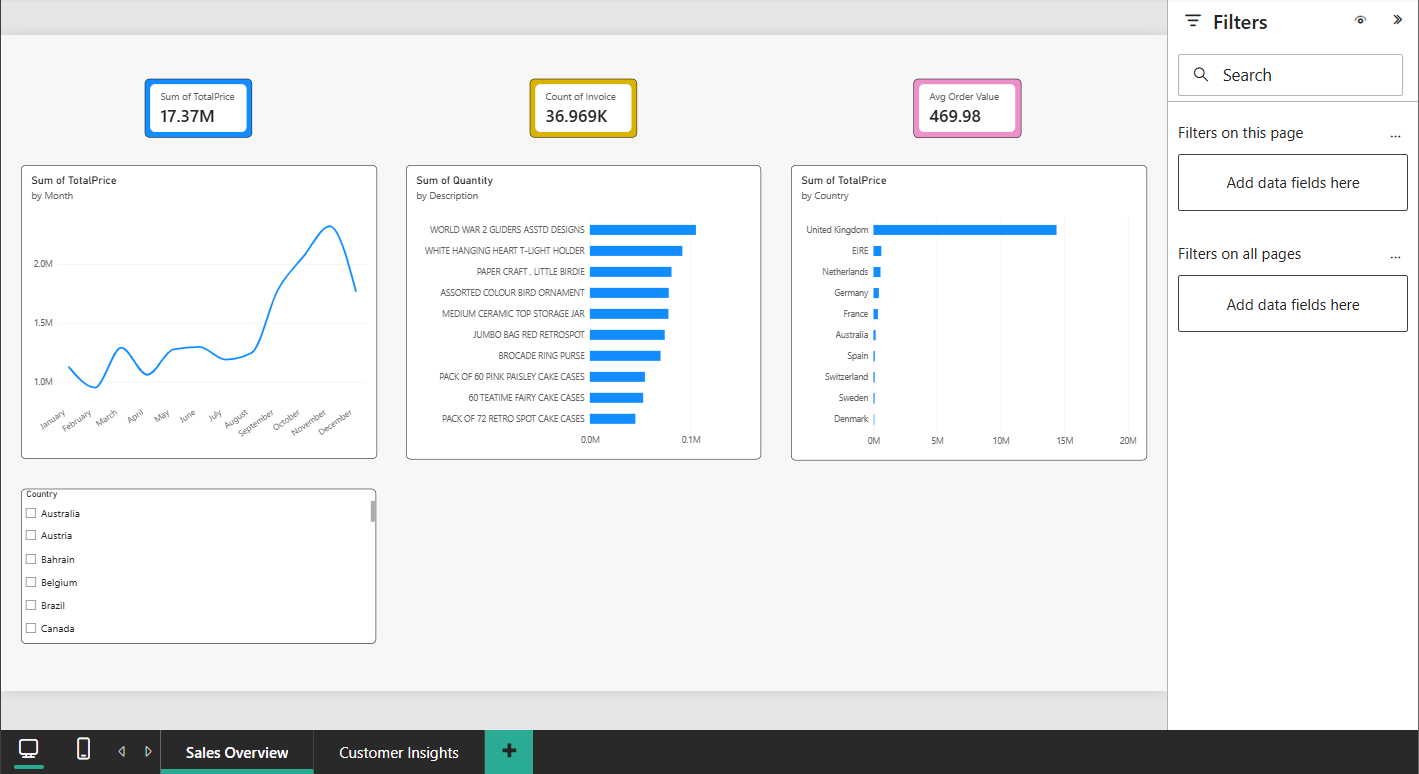

This screenshot's page, from the dashboard's own definition file:
{"tool":"powerbi","page":{"name":"Sales Overview","canvas":[1920,1080],"ordinal":0},"visuals":[{"type":"cardVisual","fields":{"Data":["Sum(cleaned_retail_data.TotalPrice)"]},"box":[237.5,72.5,177.1,97.1],"z":0},{"type":"cardVisual","fields":{"Data":["Count(cleaned_retail_data.Invoice)"]},"box":[870,72.5,177.1,97.1],"z":1000},{"type":"cardVisual","fields":{"Data":["cleaned_retail_data.Avg Order Value"]},"box":[1502.5,72.5,177.5,97.5],"z":2000},{"type":"lineChart","fields":{"Category":["cleaned_retail_data.InvoiceDate.Variation.Date Hierarchy.Year","cleaned_retail_data.InvoiceDate.Variation.Date Hierarchy.Quarter","cleaned_retail_data.InvoiceDate.Variation.Date Hierarchy.Month","cleaned_retail_data.InvoiceDate.Variation.Date Hierarchy.Day"],"Y":["Sum(cleaned_retail_data.TotalPrice)"]},"box":[32.5,215,586,484],"z":3000},{"type":"clusteredBarChart","fields":{"Category":["cleaned_retail_data.Description"],"Y":["Sum(cleaned_retail_data.Quantity)"]},"box":[667.5,215,585,485],"z":4000},{"type":"clusteredBarChart","fields":{"Category":["cleaned_retail_data.Country"],"Y":["Sum(cleaned_retail_data.TotalPrice)"]},"box":[1300,215,586,486],"z":5000},{"type":"slicer","fields":{"Values":["cleaned_retail_data.Country"]},"box":[32.5,747.5,585,255],"z":5001}]}

Visuals, with their boxes on the page's 1920x1080 design canvas (x1, y1, x2, y2). These are canvas units, not pixel positions in the 1419x774 screenshot, which may show the page scaled, cropped or inside an application window:
cardVisual - Sum(cleaned_retail_data.TotalPrice): box(238, 72, 415, 170)
cardVisual - Count(cleaned_retail_data.Invoice): box(870, 72, 1047, 170)
cardVisual - cleaned_retail_data.Avg Order Value: box(1502, 72, 1680, 170)
lineChart - cleaned_retail_data.InvoiceDate.Variation.Date Hierarchy.Year x cleaned_retail_data.InvoiceDate.Variation.Date Hierarchy.Quarter: box(32, 215, 618, 699)
clusteredBarChart - cleaned_retail_data.Description x Sum(cleaned_retail_data.Quantity): box(668, 215, 1252, 700)
clusteredBarChart - cleaned_retail_data.Country x Sum(cleaned_retail_data.TotalPrice): box(1300, 215, 1886, 701)
slicer - cleaned_retail_data.Country: box(32, 748, 618, 1002)
